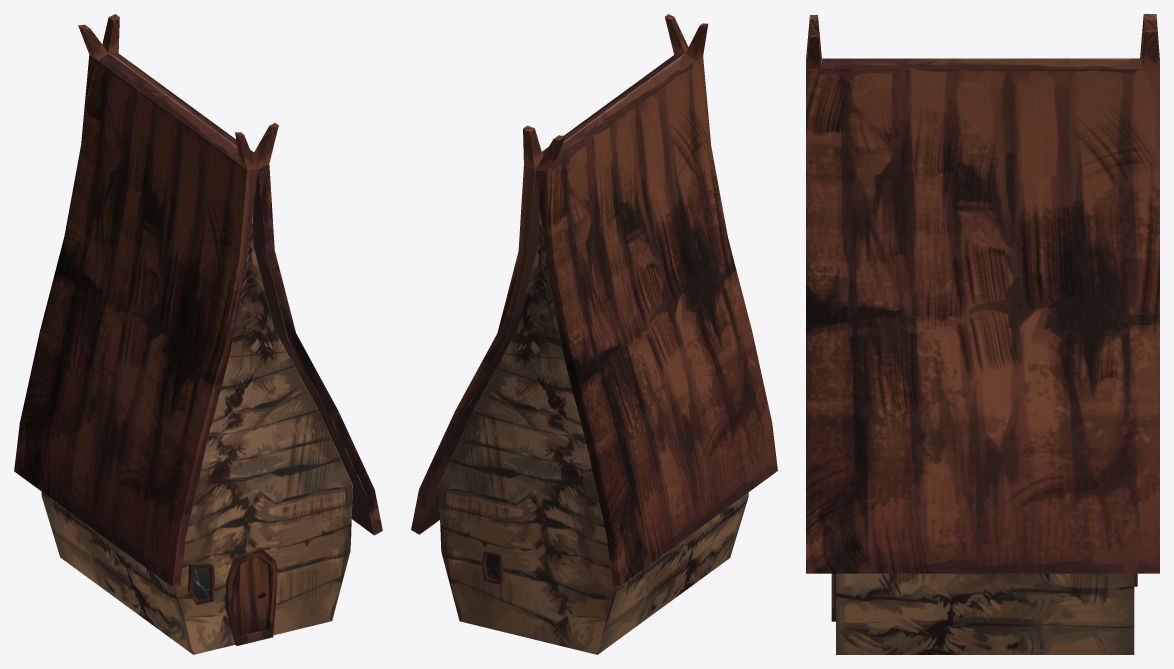
File: House01.fbx
The picture shows the model from 3 angles, left to right: view 1: azimuth 30°, elevation 25°; view 2: azimuth 150°, elevation 25°; view 3: azimuth 270°, elevation 25°; orthographic projection. The views are drawn at different scales.
Visible parts, largest first — view 1: House_01; view 2: House_01; view 3: House_01.
Part boxes in pixels (x1=…): House_01: x1=14, y1=14, x2=382, y2=654; House_01: x1=411, y1=14, x2=777, y2=654; House_01: x1=806, y1=14, x2=1159, y2=654.
Bounding box in the file's own units: 5.77 × 13.62 × 7.49.
1 material, 1 textured.
